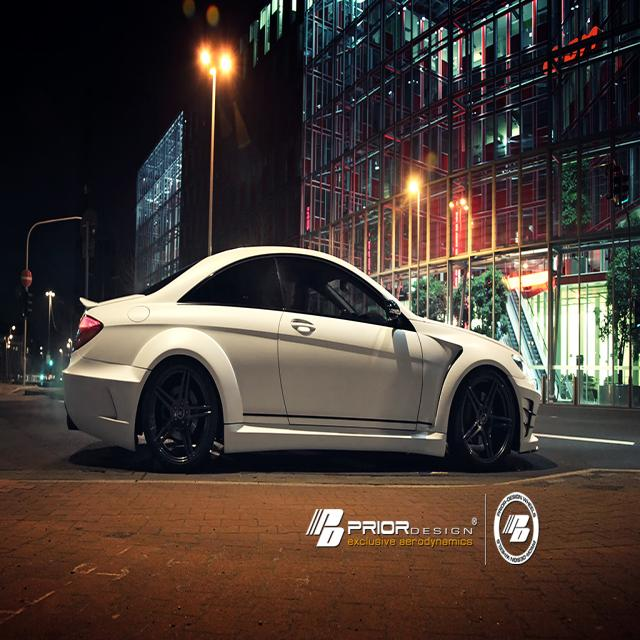car: (61, 239, 537, 473)
